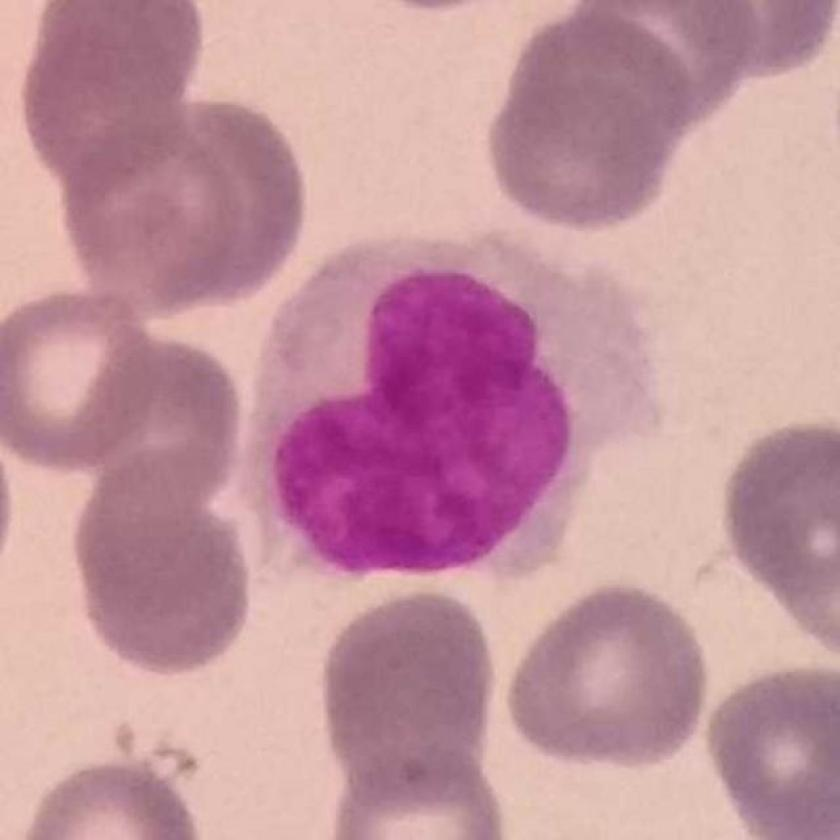monocyte: (243, 228, 669, 590)
